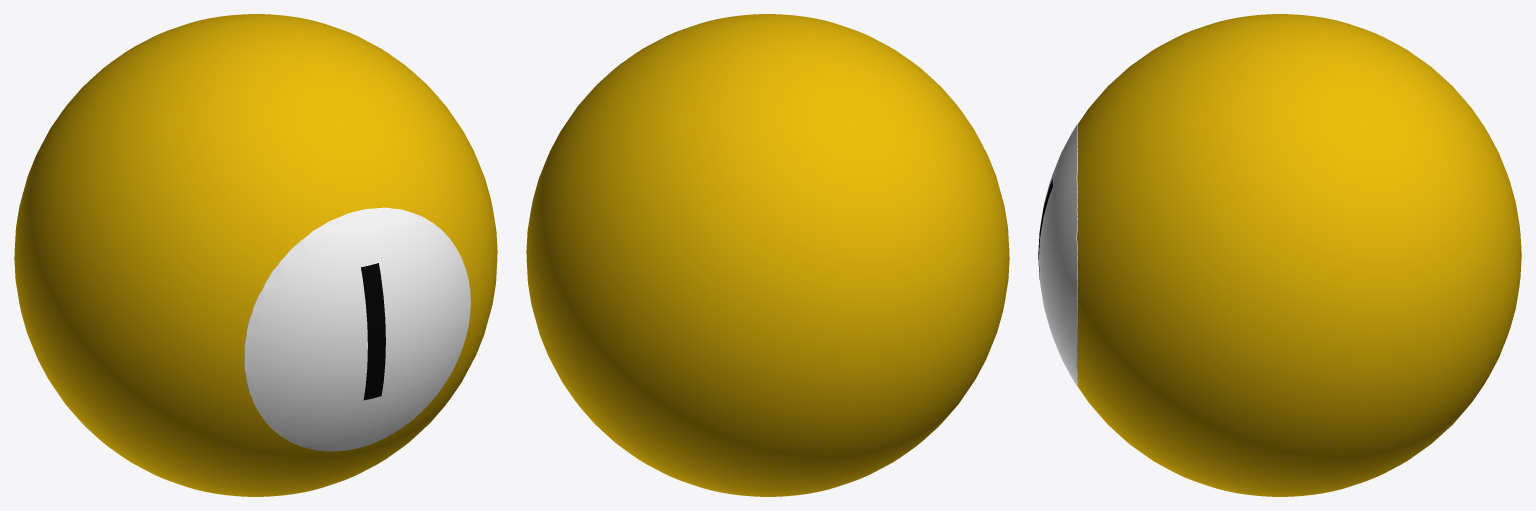
Rendered from Ball1.fbx.
3 views of the same model, side by side, from view 1: azimuth 30°, elevation 25°; view 2: azimuth 150°, elevation 25°; view 3: azimuth 270°, elevation 25° (orthographic).
Parts seen in each view (by area): view 1: Ball1; view 2: Ball1; view 3: Ball1.
Part boxes in pixels (x1,y1,x2,y2): Ball1: [14, 14, 497, 496]; Ball1: [526, 14, 1009, 496]; Ball1: [1038, 14, 1521, 496].
Size of the model in its own units: 5.7 by 5.7 by 5.7.
